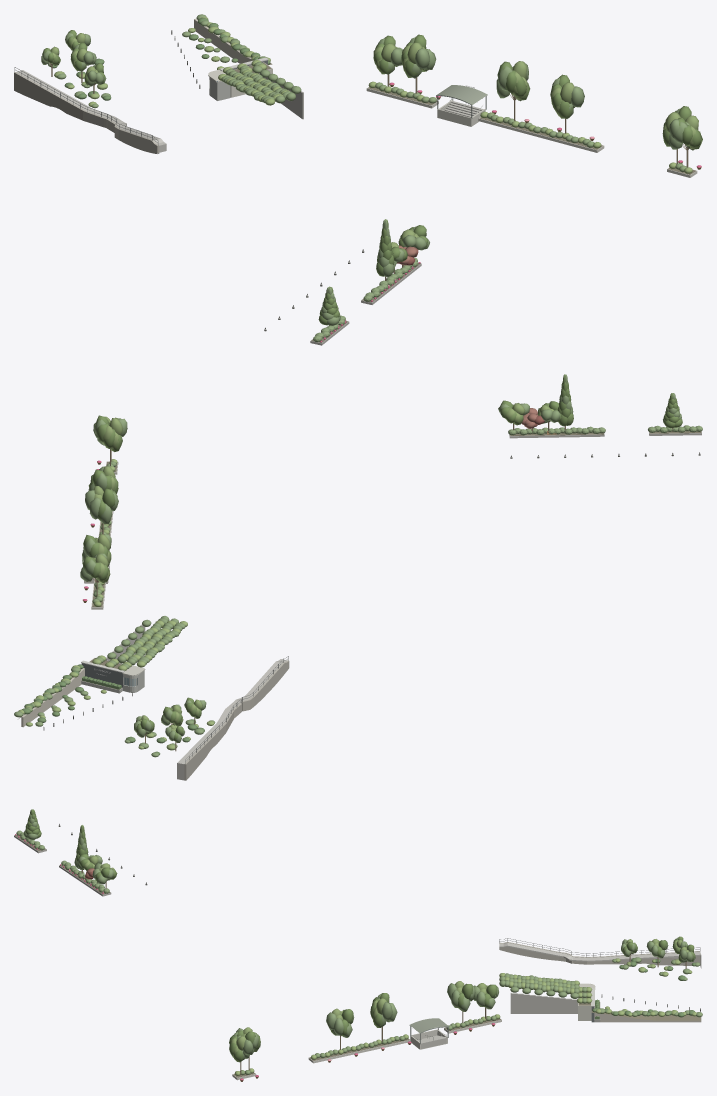
3 views of the same model, one above another, from view 1: azimuth 30°, elevation 25°; view 2: azimuth 150°, elevation 25°; view 3: azimuth 270°, elevation 25° (orthographic). The views are drawn at different scales.
Parts seen in each view (by area): view 1: music_garden__tree_crown.001, gate__west_retaining, music_garden__tree_crown, music_garden__tree_crown.002, main_court__mature_crown.001, gate__terrace_hedge.001, main_court__mature_crown, music_garden__low_shrub.001, gate__west_sidewalk, music_garden__raised_bed, main_court__shrub, gate_bed__mature_crown (+5 smaller); view 2: music_garden__tree_crown.001, music_garden__tree_crown, gate__west_retaining, gate__terrace_hedge.001, main_court__mature_crown.001, music_garden__tree_crown.002, gate__west_sidewalk, main_court__shrub, gate__east_retaining_wall, main_court__mature_crown, gate__terrace_hedge; view 3: music_garden__tree_crown, music_garden__tree_crown.001, gate__retaining_return, gate__west_retaining, gate__west_sidewalk, gate__terrace_hedge.001, main_court__mature_crown.001, music_garden__tree_crown.002, music_garden__low_shrub.001, main_court__mature_crown, music_garden__raised_bed, gate_bed__mature_crown (+3 smaller).
Boxes of the visible parts, x1,y1,x2,y2 form: music_garden__tree_crown.001: (373,34,702,149); gate__west_retaining: (14,72,159,153); music_garden__tree_crown: (377,37,694,150); music_garden__tree_crown.002: (373,42,699,148); main_court__mature_crown.001: (318,219,427,325); gate__terrace_hedge.001: (221,68,295,103); main_court__mature_crown: (321,219,429,325); music_garden__low_shrub.001: (375,82,686,171); gate__west_sidewalk: (16,70,166,152); music_garden__raised_bed: (366,87,697,177); main_court__shrub: (313,257,417,342); gate_bed__mature_crown: (41,32,106,86); music_garden__tree_crown.001: (81,415,121,582); music_garden__tree_crown: (80,418,127,581); gate__west_retaining: (184,660,289,780); gate__terrace_hedge.001: (117,616,185,665); main_court__mature_crown.001: (500,374,682,428); music_garden__tree_crown.002: (93,416,123,581); gate__west_sidewalk: (177,659,286,780); main_court__shrub: (508,425,702,435); gate__east_retaining_wall: (21,668,84,727); main_court__mature_crown: (498,374,681,423); gate__terrace_hedge: (120,620,187,667); music_garden__tree_crown: (233,983,498,1060); music_garden__tree_crown.001: (229,983,497,1062); gate__retaining_return: (510,992,577,1013); gate__west_retaining: (499,942,700,965); gate__west_sidewalk: (499,943,701,968); gate__terrace_hedge.001: (499,973,579,994); main_court__mature_crown.001: (25,809,116,880); music_garden__tree_crown.002: (230,981,488,1057); music_garden__low_shrub.001: (240,1015,496,1075); main_court__mature_crown: (23,809,113,884); music_garden__raised_bed: (232,1018,501,1080); gate_bed__mature_crown: (621,937,695,962).
Size of the model in its own units: 116 by 33.56 by 160.
